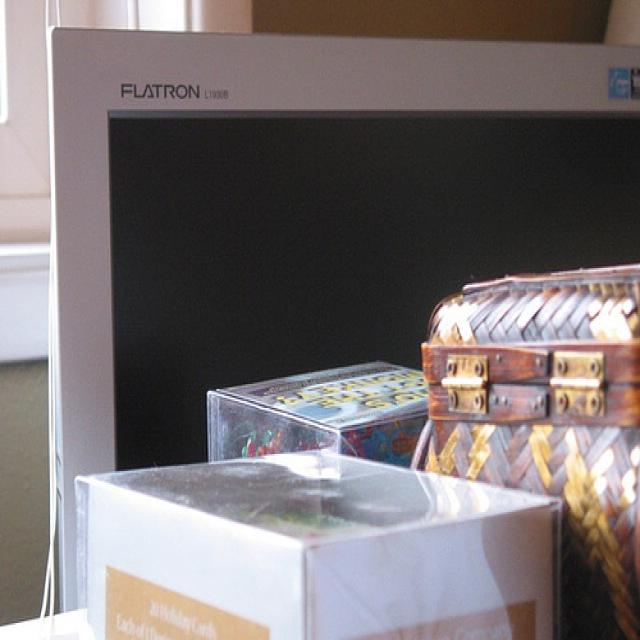tvmonitor: (41, 22, 640, 614)
